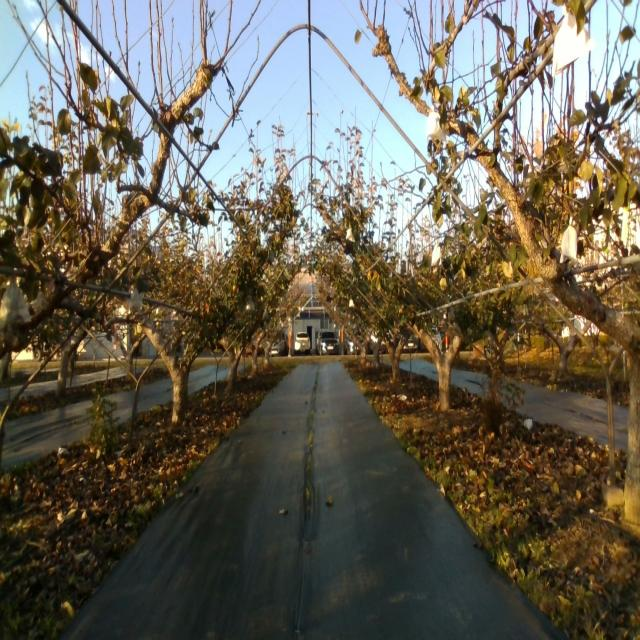pearbags: (553, 4, 594, 76), (0, 284, 32, 324), (560, 215, 578, 264), (427, 105, 445, 142), (128, 289, 143, 313), (431, 242, 442, 266)
